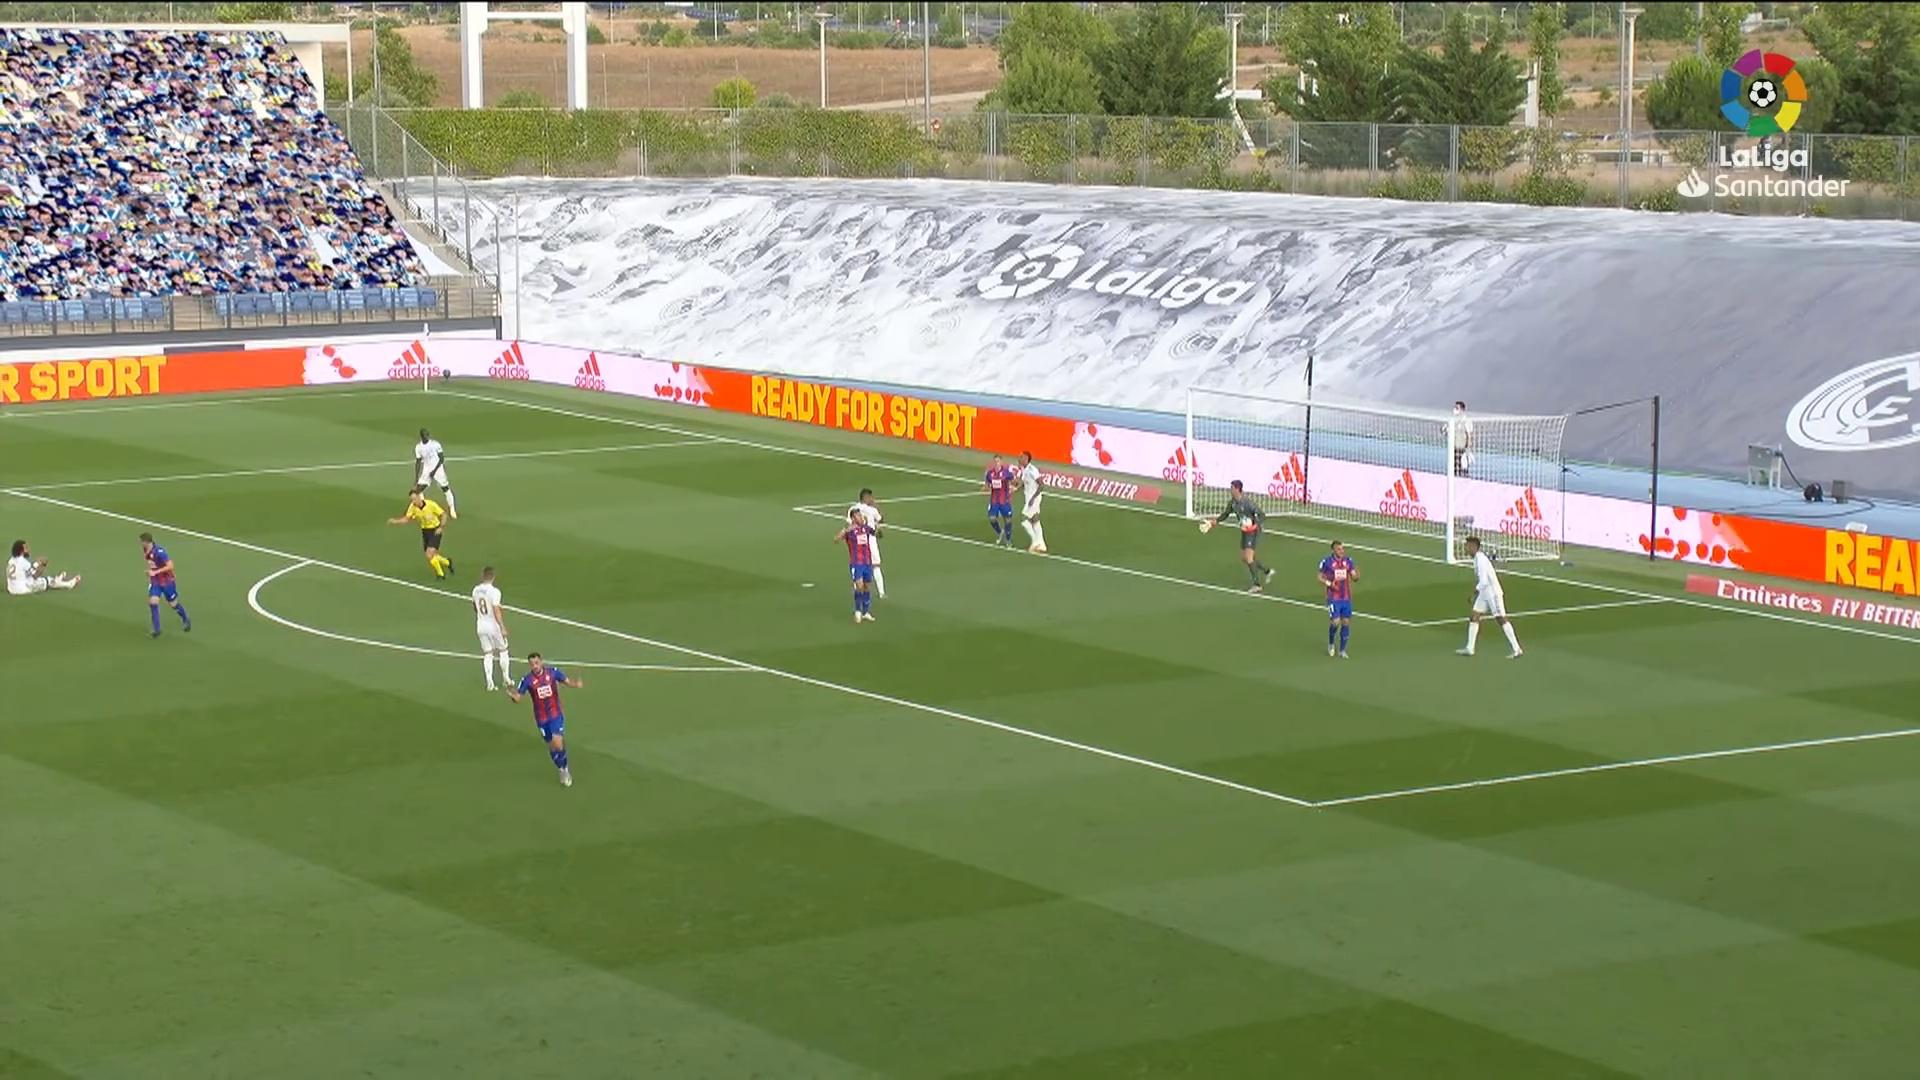ball: (1240, 516, 1255, 529)
